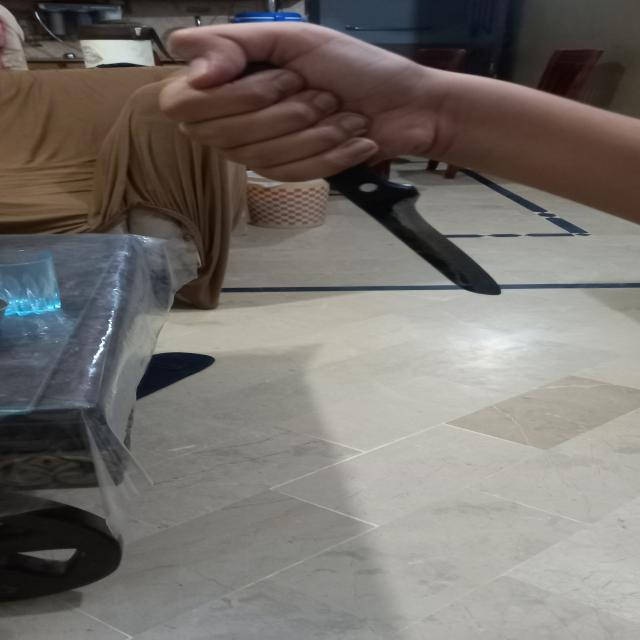weapon: (187, 66, 526, 298)
